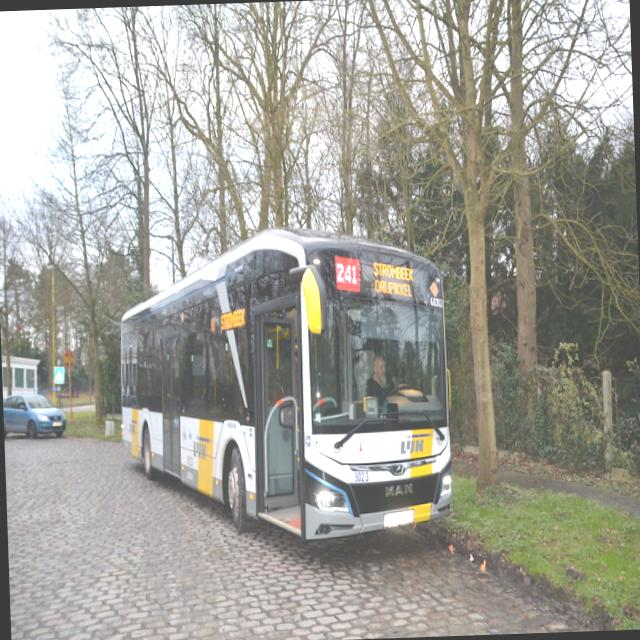bus-number: (334, 254, 360, 291)
